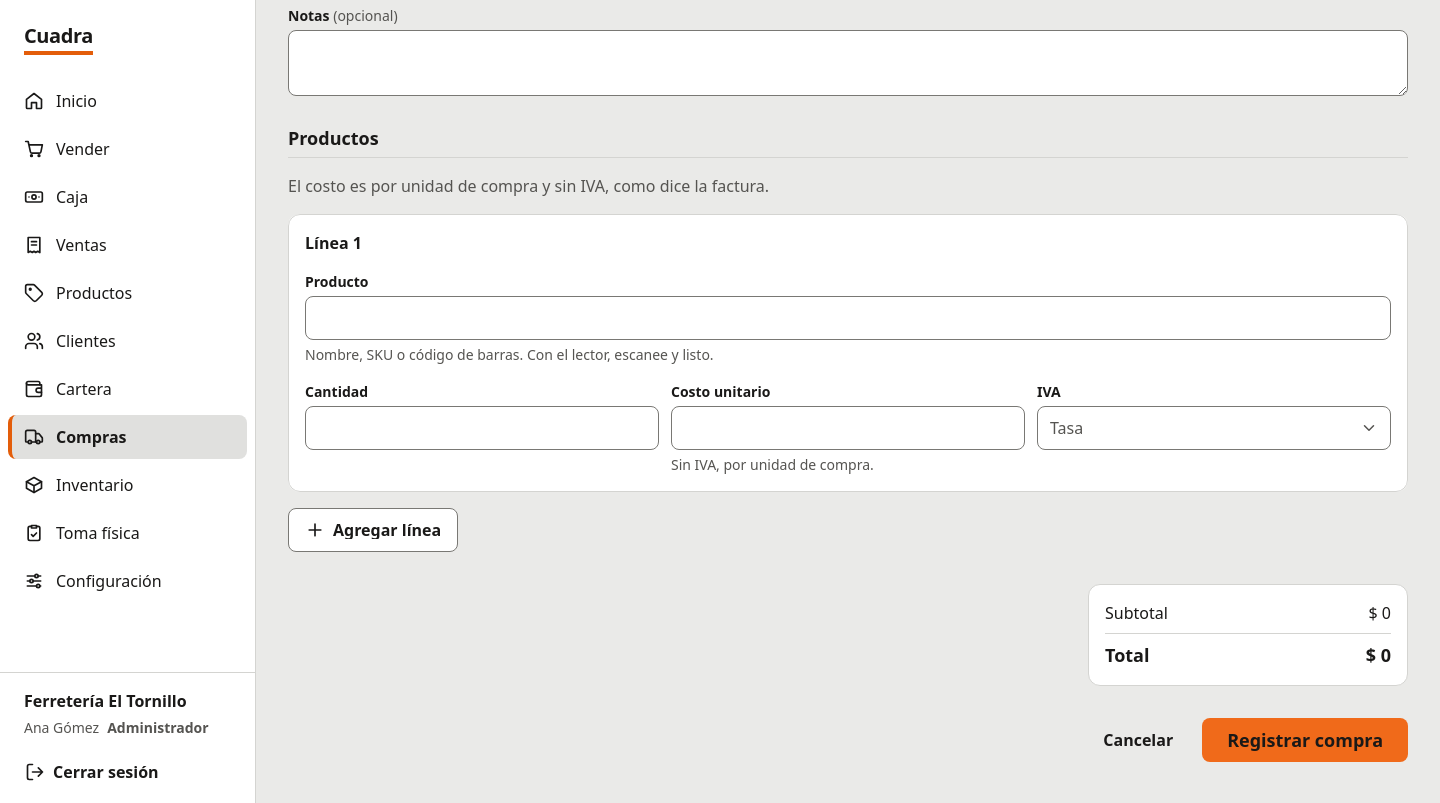
Test case: PurchaseFormPage: registrar › quita una línea
(page scrolled)
Check: the element "Línea 1" is shown, box [288,214,1408,492]
Click the button "Agregar línea". click: (373,530)
box: [288,508,458,552]
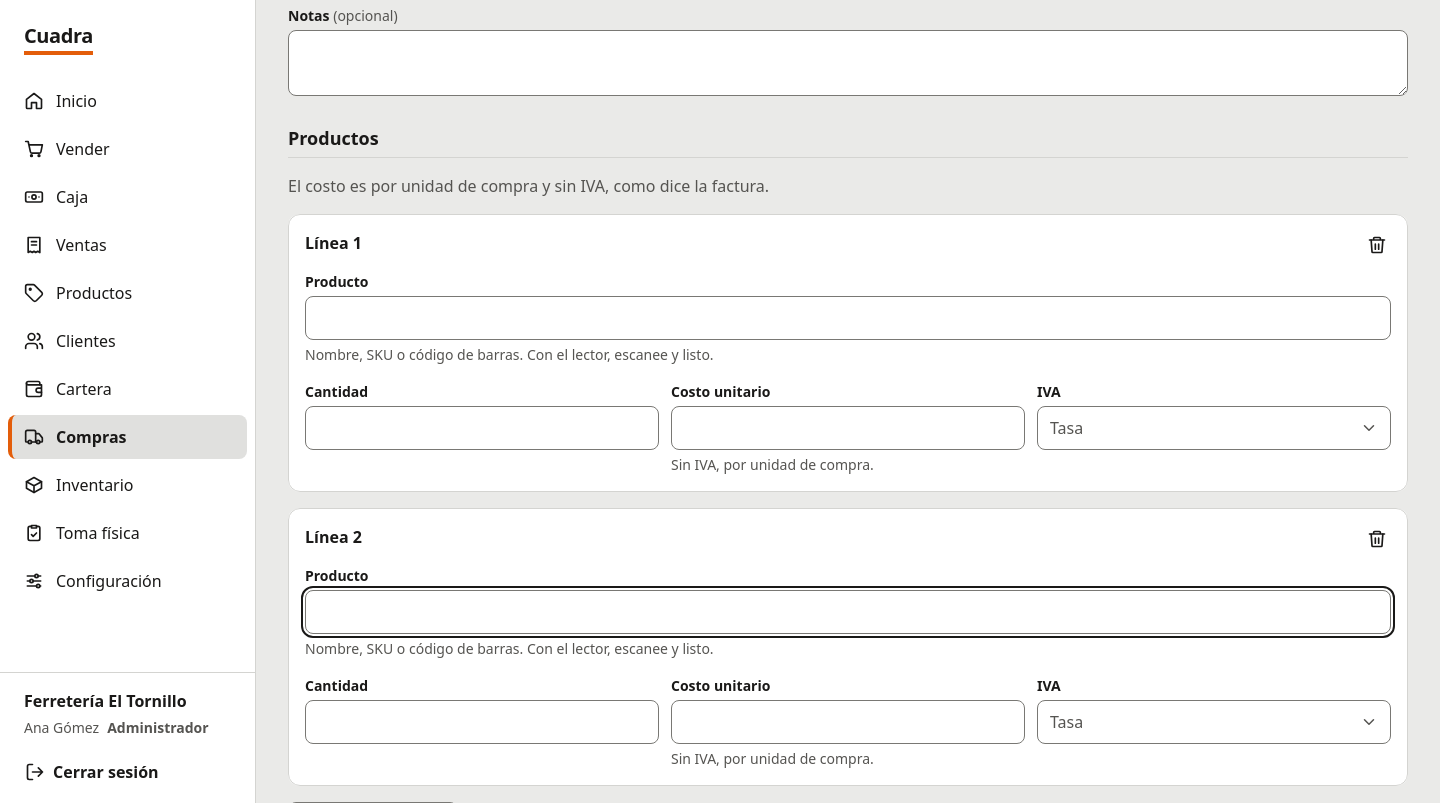
Click the button named "Quitar la línea 2". click: (1377,539)
box: [1355,517,1399,561]
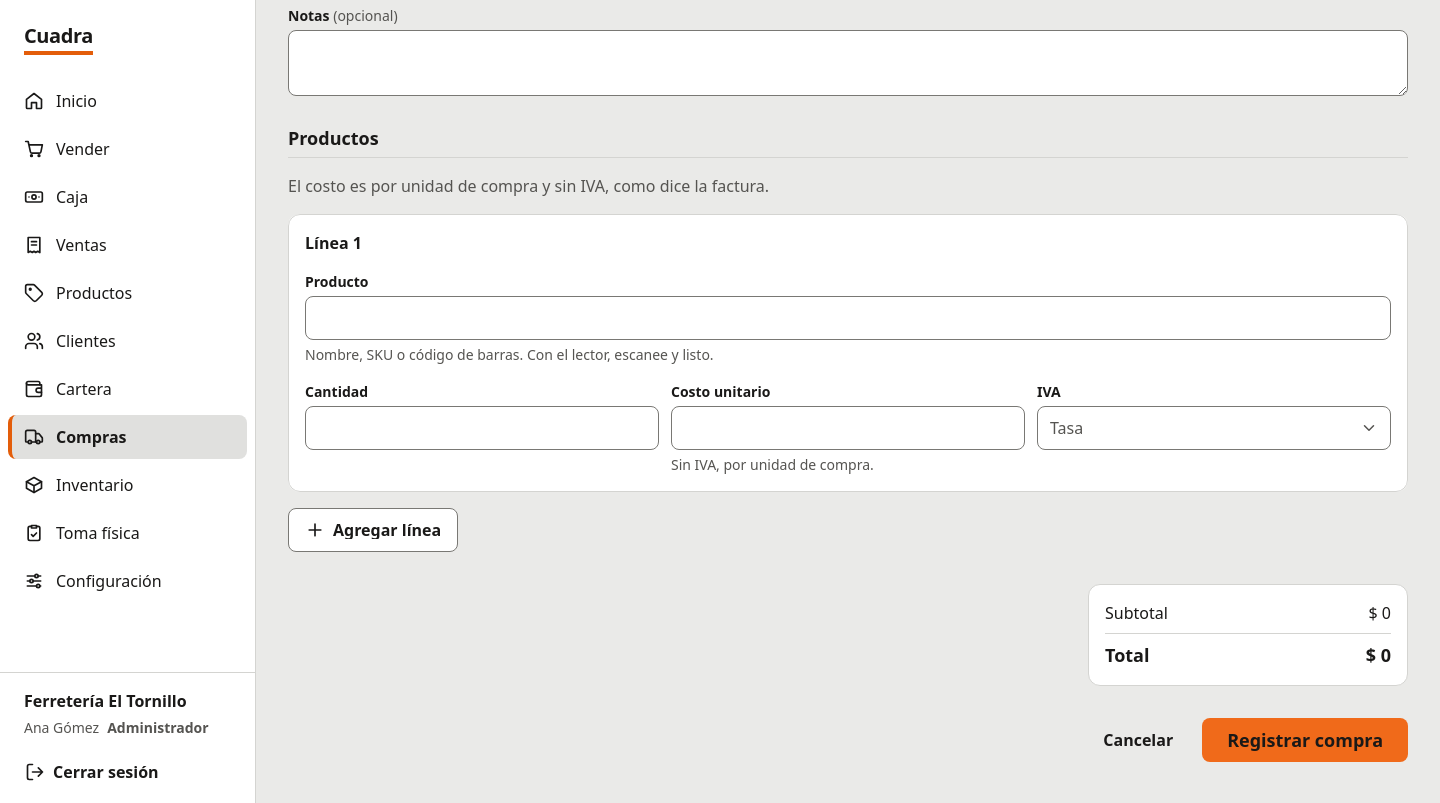
Check: the text "Línea 2" is gone
